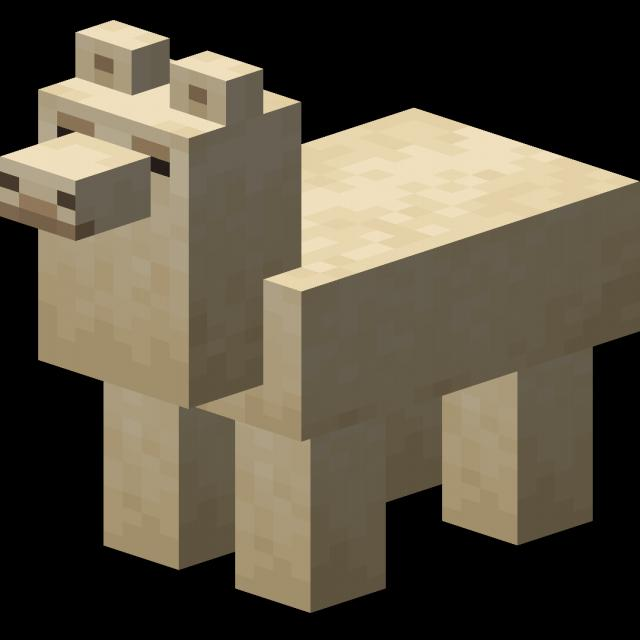Llama: (0, 20, 640, 616)
